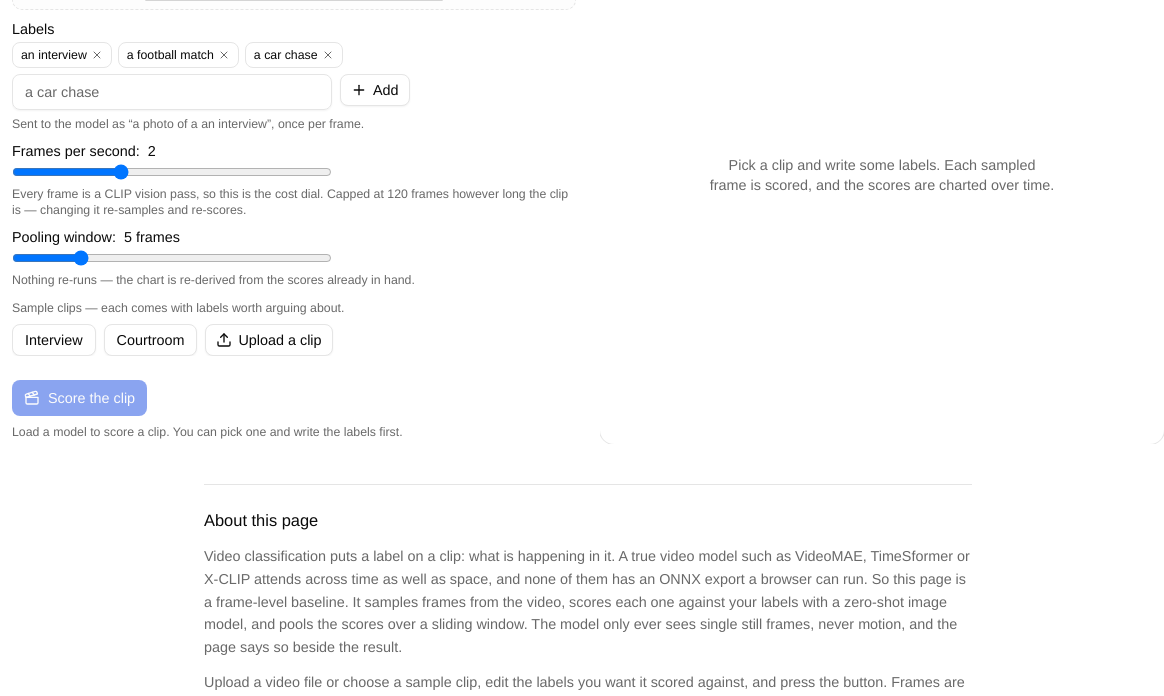
Test: VideoClassificationPage › starts from the sample's own label set, and swaps it with the clip
(page scrolled)
Expected: the text "an interview" is shown, [12,42,112,68]
Click the button "Courtroom": (150, 340) [104,324,197,356]
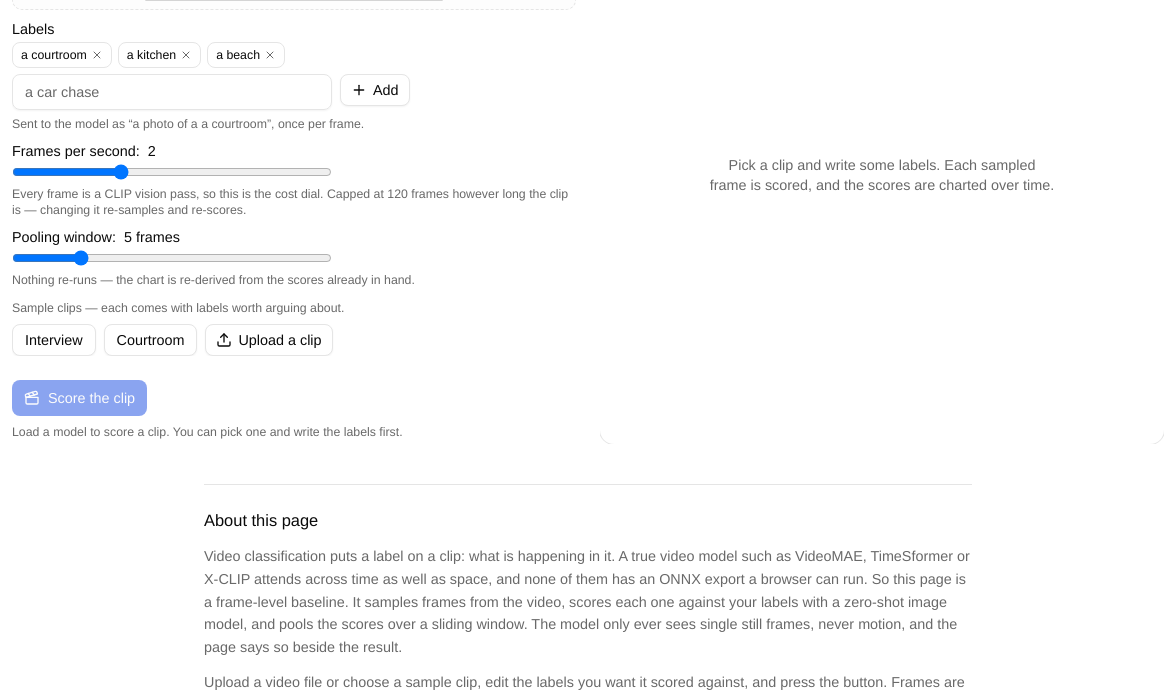
Expected: the text "a courtroom" is shown, [12,42,112,68]
Expected: the text "an interview" is gone
